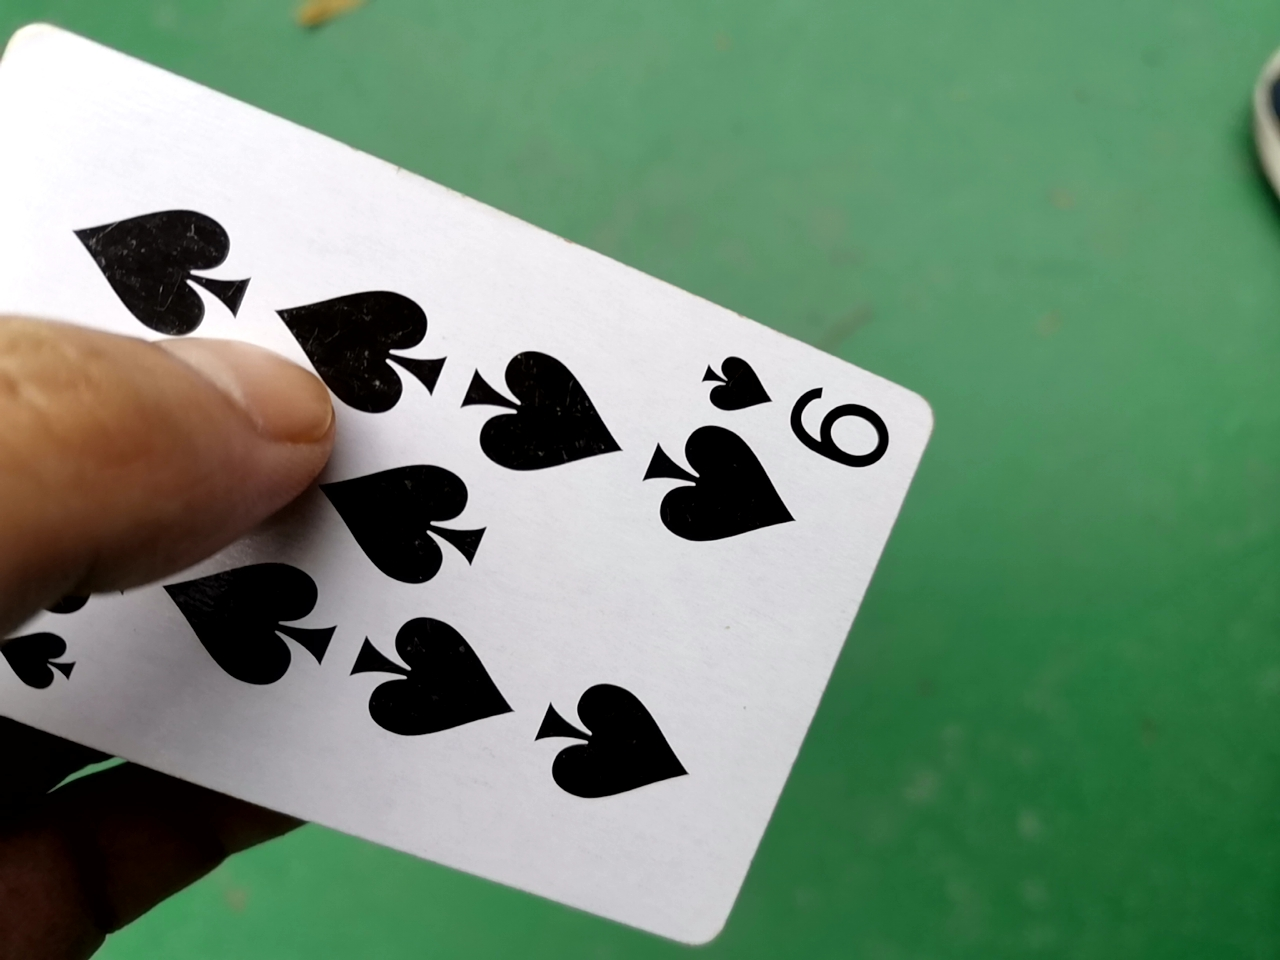ht 9: (0, 7, 966, 948)
